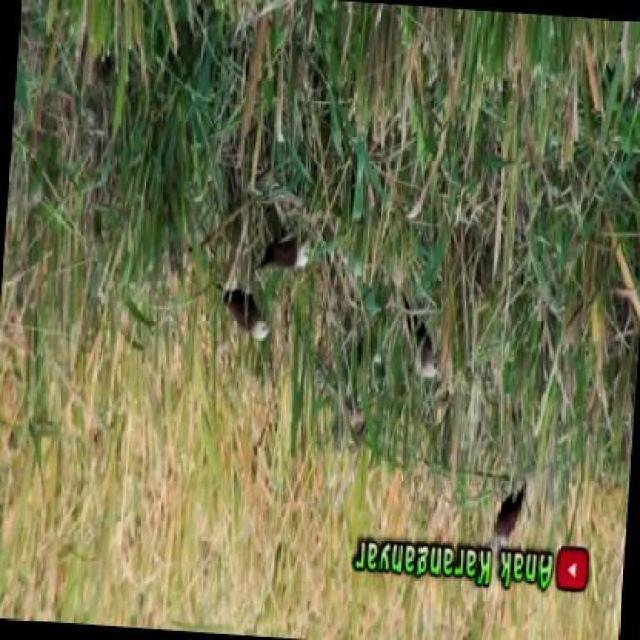Bird: (212, 276, 278, 348), (252, 212, 317, 274), (489, 478, 535, 558)
